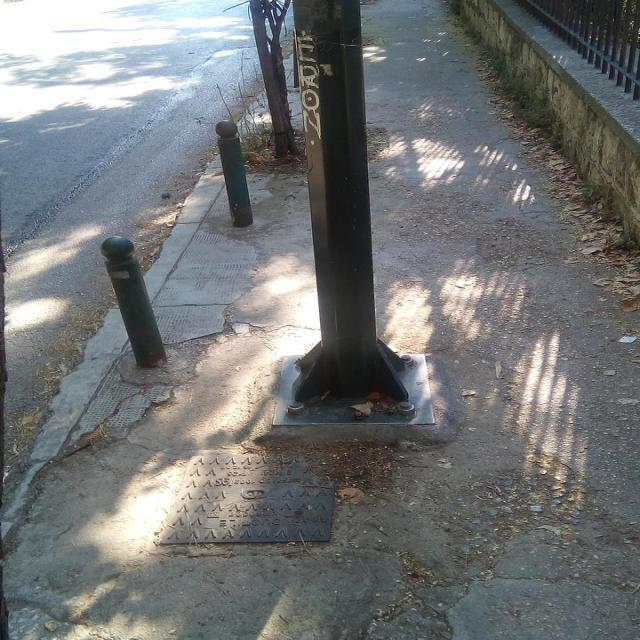nonspitting: (295, 31, 325, 140)
